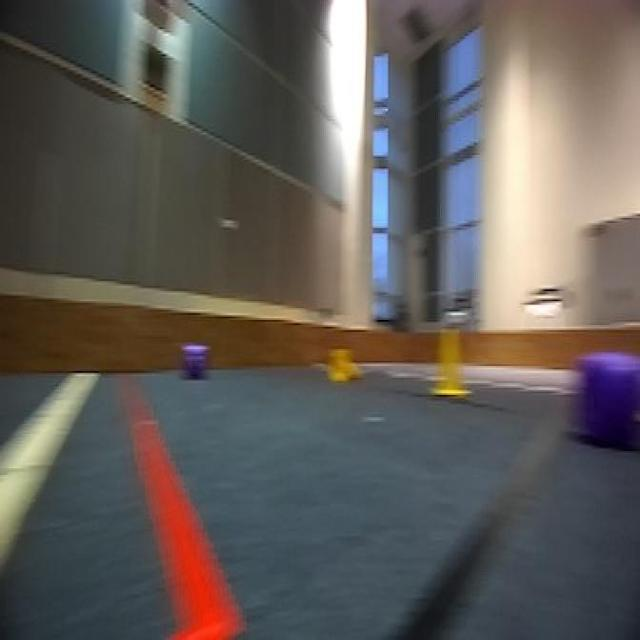frc_cone: (429, 322, 472, 398), (324, 342, 365, 388)
frc_cube: (568, 347, 640, 442), (184, 342, 206, 381)
